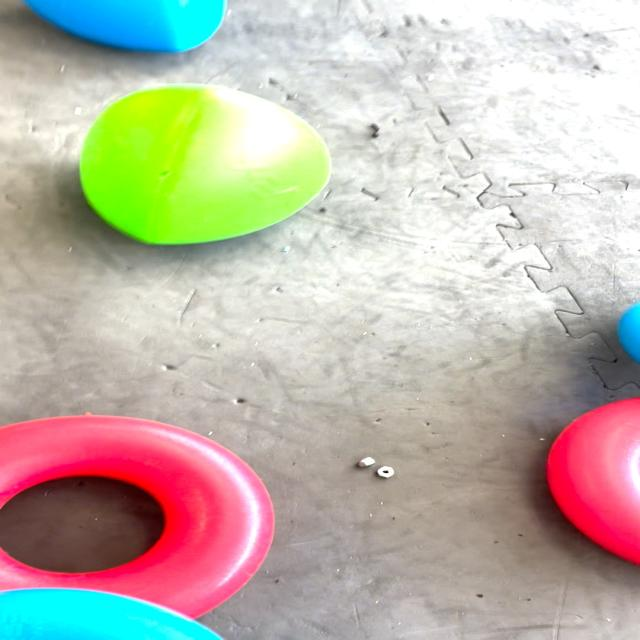Blue-Ring: (0, 587, 223, 640)
Red-Ring: (0, 415, 273, 619), (547, 398, 640, 564)
